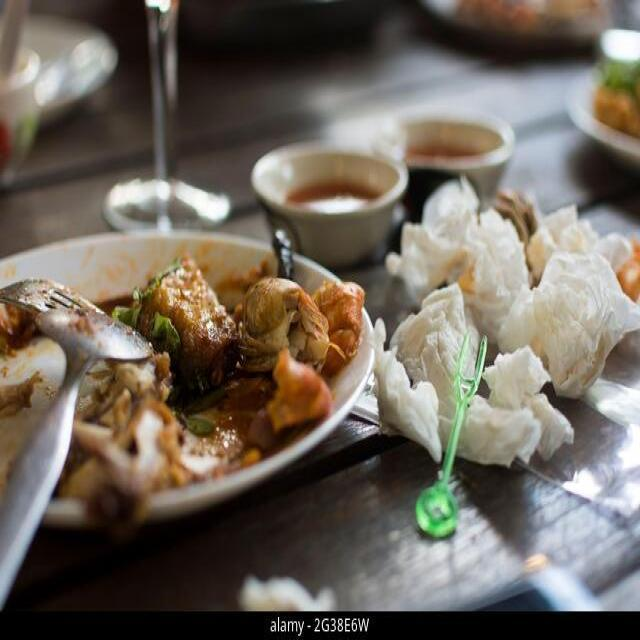cups: (249, 138, 409, 268), (372, 103, 515, 223)
